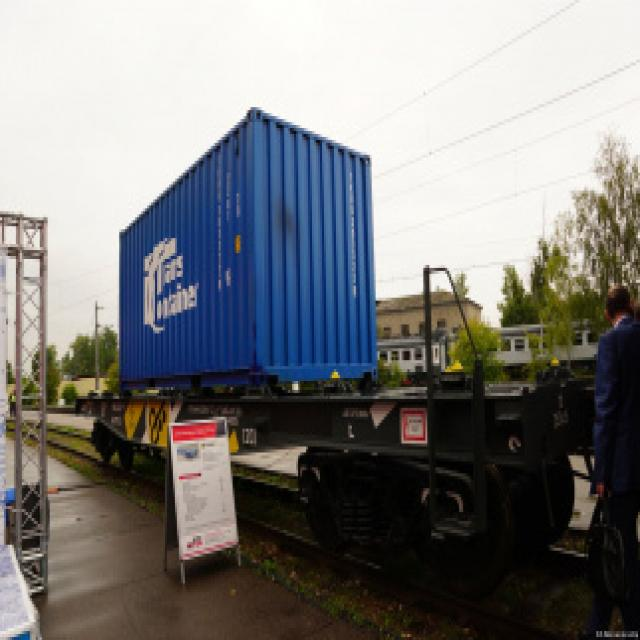container: (114, 99, 383, 400)
flatcar: (70, 366, 586, 568)
